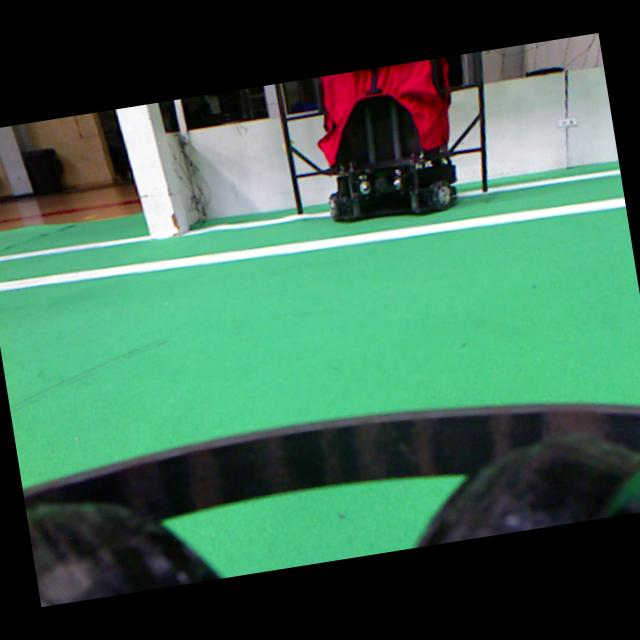goal: (117, 104, 178, 238)
